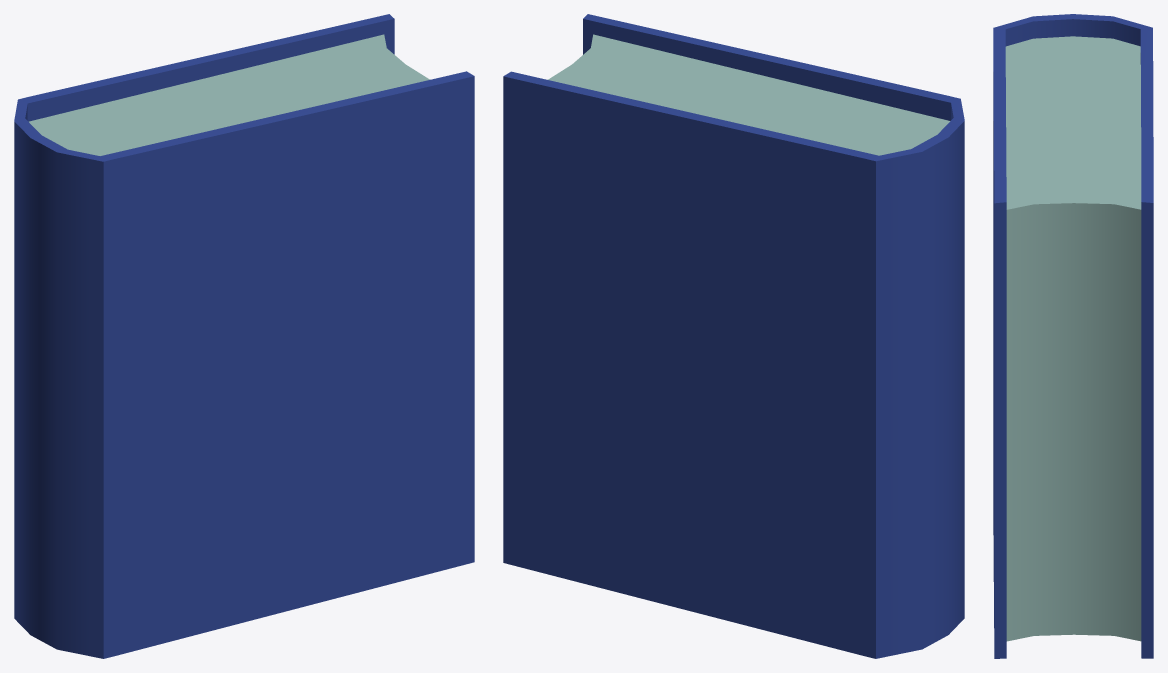
The model's file is Book_low.fbx.
3 renders of one model, left to right at view 1: azimuth 30°, elevation 25°; view 2: azimuth 150°, elevation 25°; view 3: azimuth 270°, elevation 25°, orthographic. The views are drawn at different scales.
Visible parts, largest first — view 1: Book_01; view 2: Book_01; view 3: Book_01.
Boxes of the visible parts, box(x1,y1,x2,y2) form: Book_01: box(14, 14, 474, 658); Book_01: box(503, 14, 964, 658); Book_01: box(993, 14, 1153, 658).
Size of the model in its own units: 220 by 260 by 81.13.
